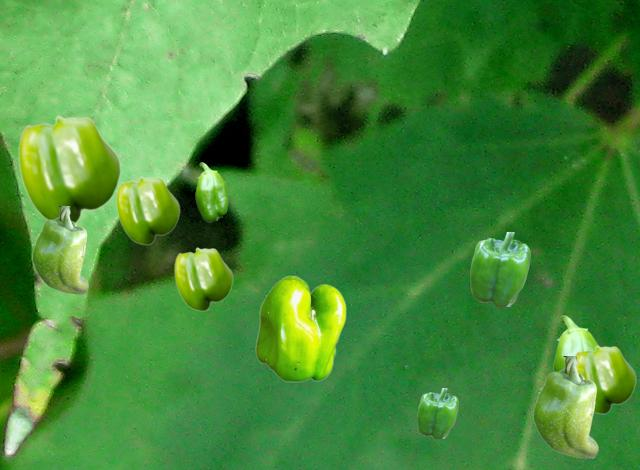bell_pepper: (18, 115, 120, 223), (255, 275, 345, 381), (533, 356, 597, 457), (32, 206, 87, 293), (470, 232, 529, 305), (116, 176, 179, 244), (574, 345, 635, 413), (174, 247, 232, 310), (553, 315, 598, 370), (417, 388, 457, 437), (195, 162, 227, 221)
